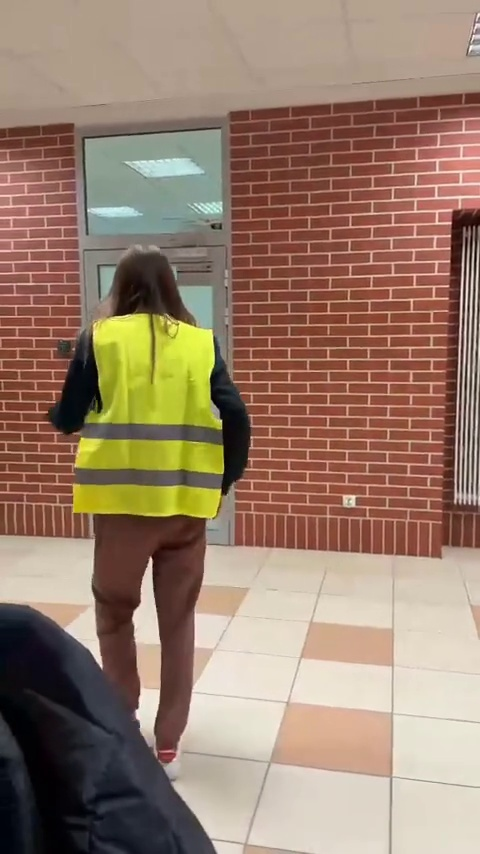vest: (40, 246, 257, 773)
